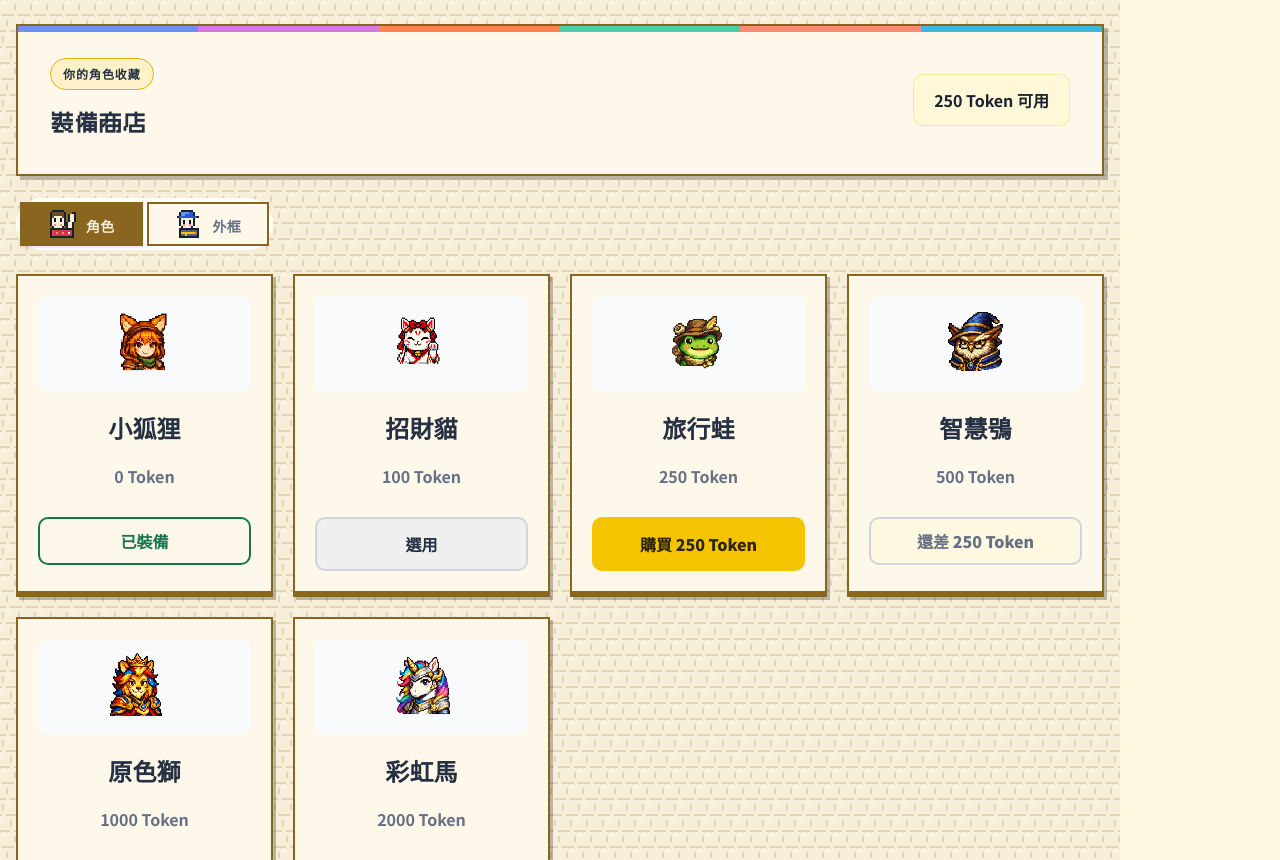
ShopPage › equips an owned Blook from the returned server snapshot without a charge
Click the button with aria-label "選用 招財貓".
click(422, 544)  # box [315,517,528,571]
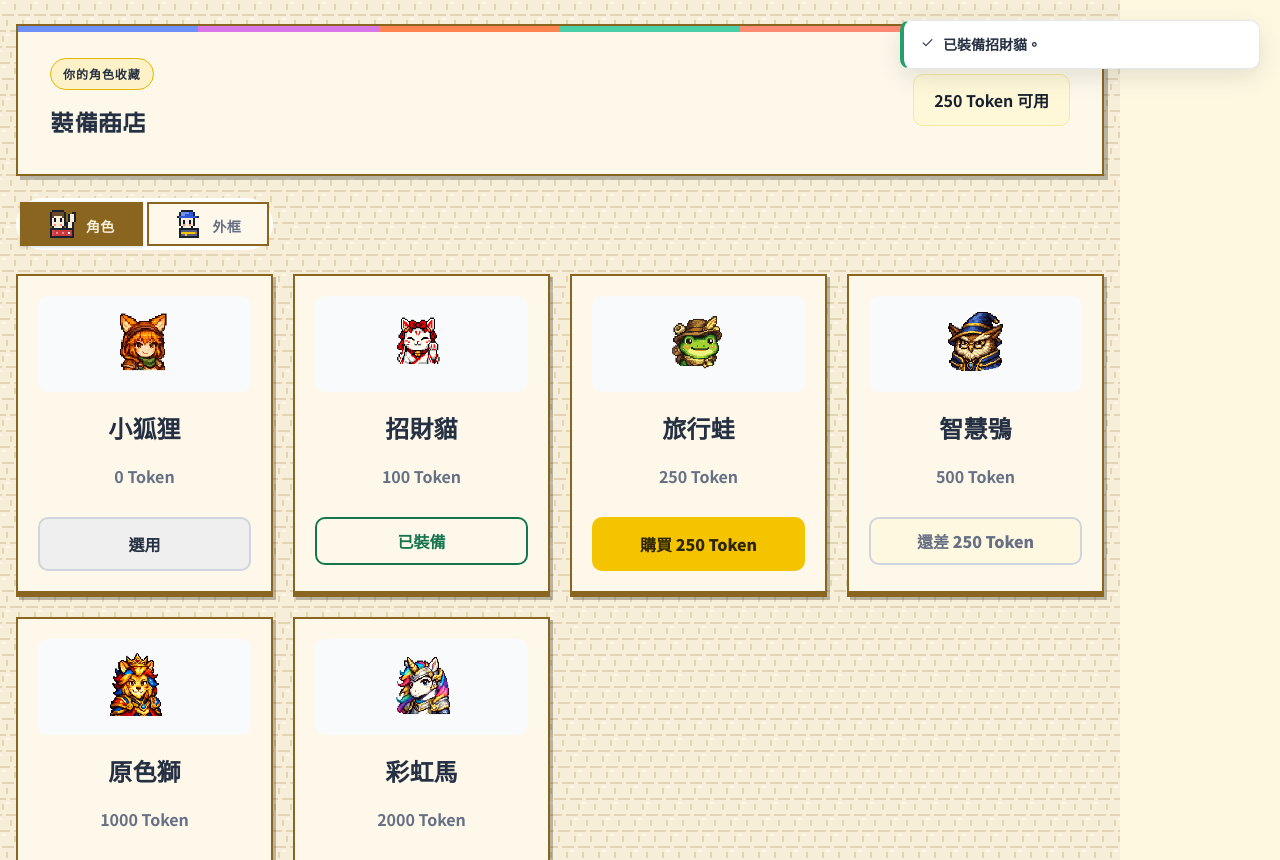
Check: the text "已裝備" is shown once, box [315,517,528,565]
Check: the message reads "已裝備招財貓。", box [943,34,1041,54]
